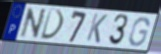3: (108, 14, 129, 47)
7: (68, 10, 87, 44)
D: (39, 8, 66, 41)
G: (128, 16, 151, 48)
K: (85, 12, 109, 44)
N: (19, 7, 48, 40)
